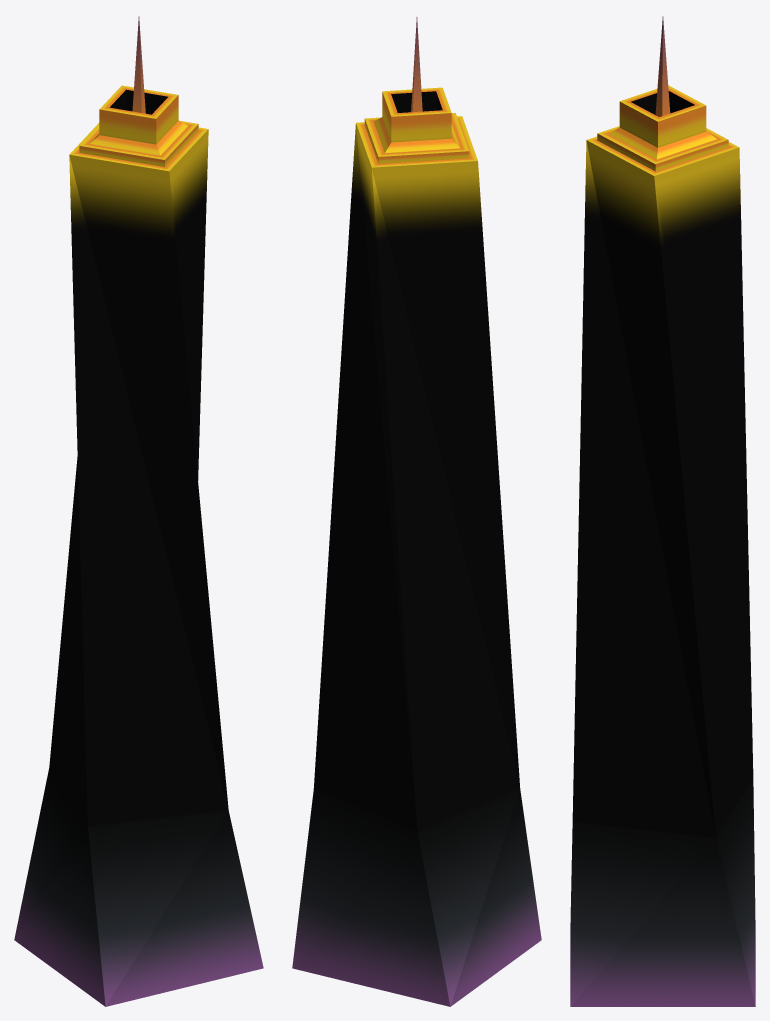
File: skyscraper2 test.fbx
3 views of the same model, side by side, from view 1: azimuth 30°, elevation 25°; view 2: azimuth 150°, elevation 25°; view 3: azimuth 270°, elevation 25° (orthographic).
Parts seen in each view (by area): view 1: SkyScraper2; view 2: SkyScraper2; view 3: SkyScraper2.
Part boxes in pixels (x1,y1,x2,y2): SkyScraper2: (14, 16, 263, 1006); SkyScraper2: (292, 17, 541, 1006); SkyScraper2: (570, 16, 755, 1006).
Size of the model in its own units: 236 by 1341 by 236.
Materials: 1 (1 with a texture image).
